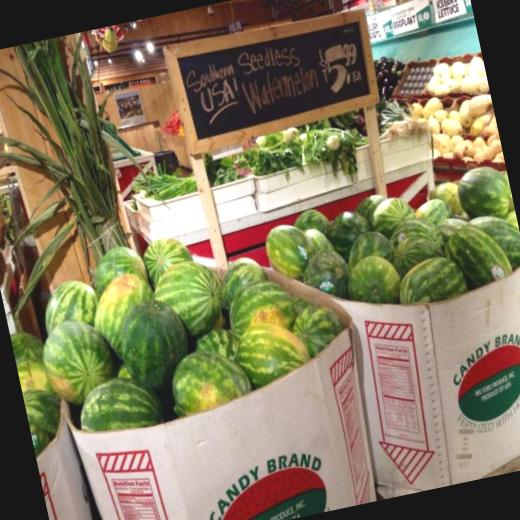Cherry: (0, 204, 358, 458), (260, 164, 520, 338)
